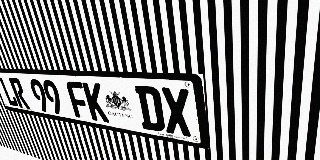9: (41, 80, 65, 115), (28, 79, 52, 113)
D: (135, 85, 166, 133)
F: (65, 81, 92, 120)
K: (82, 82, 110, 123)
L: (0, 77, 19, 107)
R: (8, 78, 30, 109)
X: (160, 87, 193, 137)
